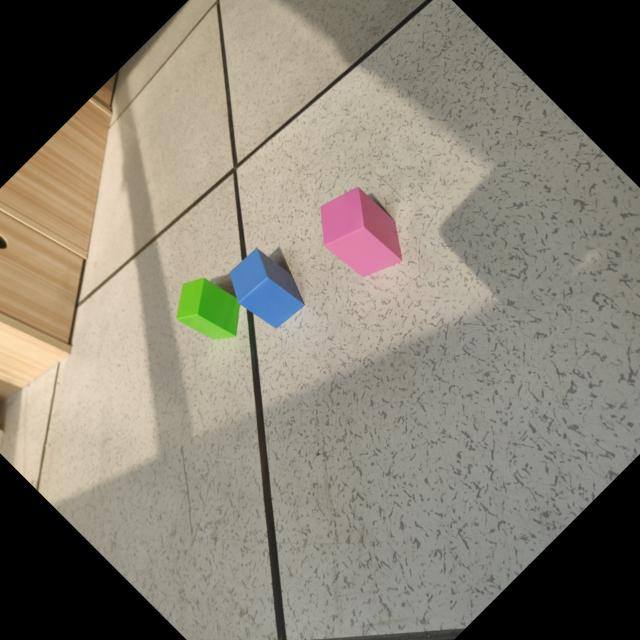blue: (226, 249, 306, 328)
green: (172, 276, 240, 341)
pink: (321, 187, 404, 277)
